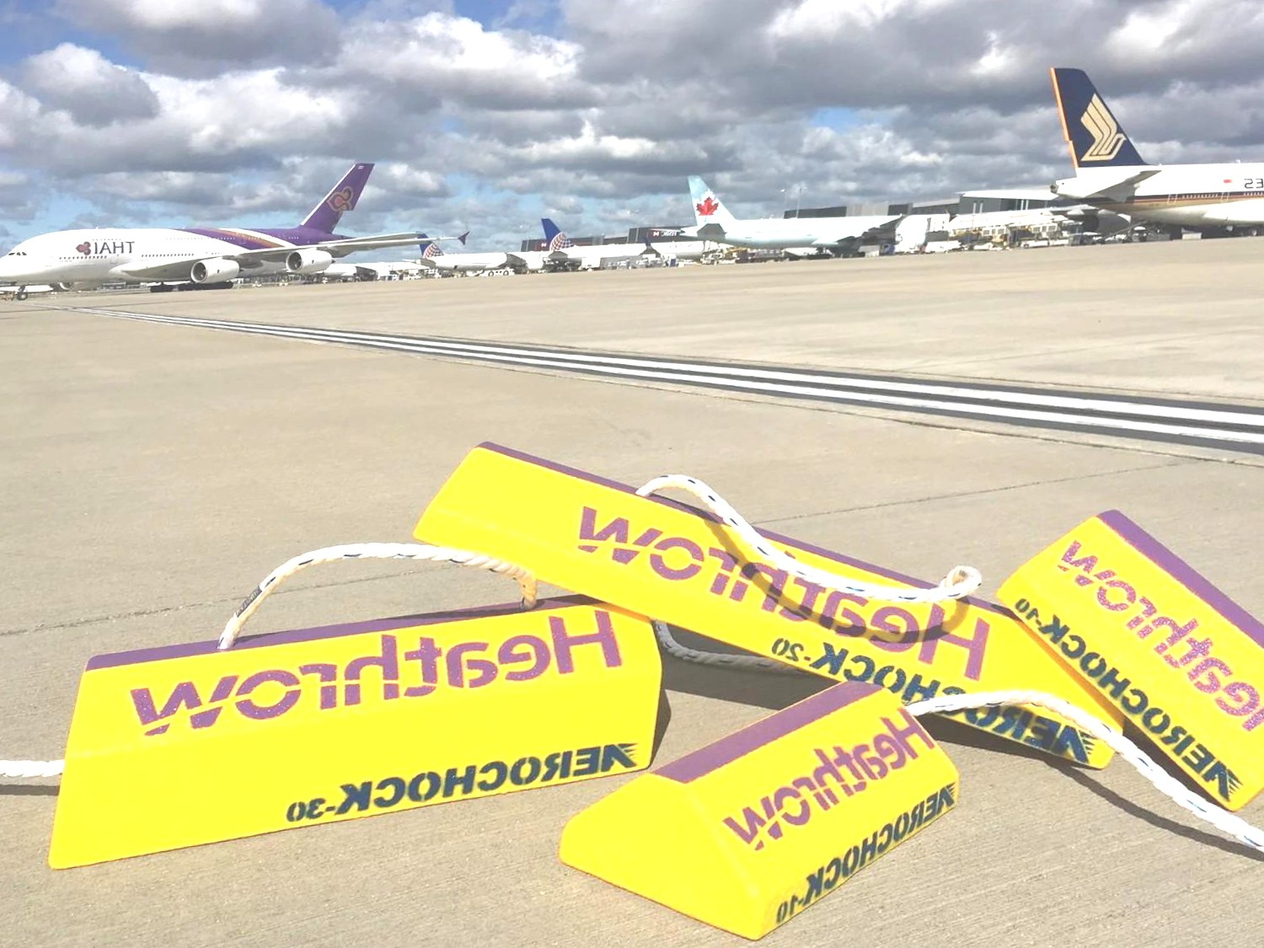chock: (368, 406, 1161, 795), (37, 575, 681, 872), (543, 674, 973, 948), (975, 490, 1264, 822)
